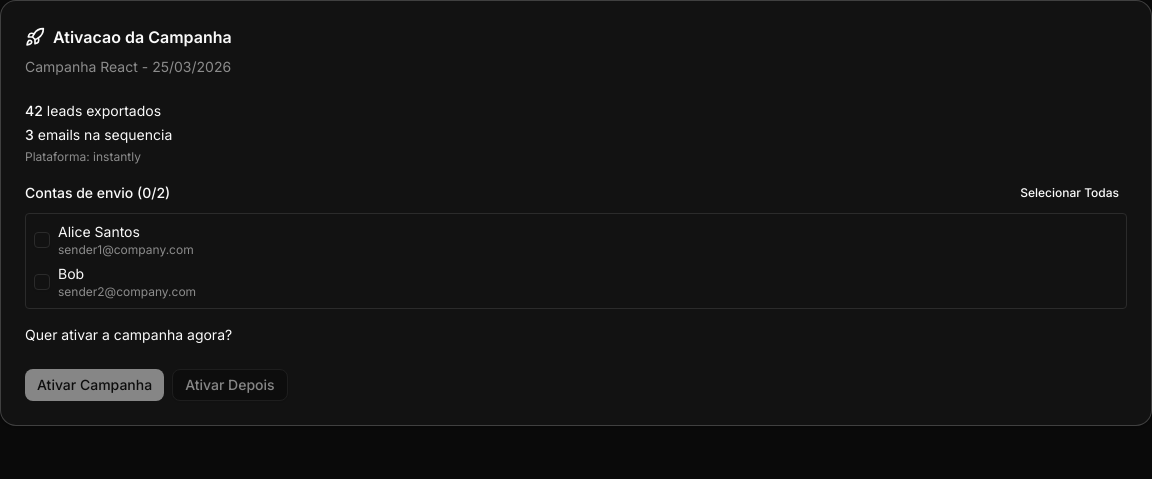
AgentActivationGate (AC: #4, #5, #6) › shows deferred feedback after defer
Click the checkbox named "Selecionar conta sender1@company.com" at (42, 240), box [34, 232, 50, 248]
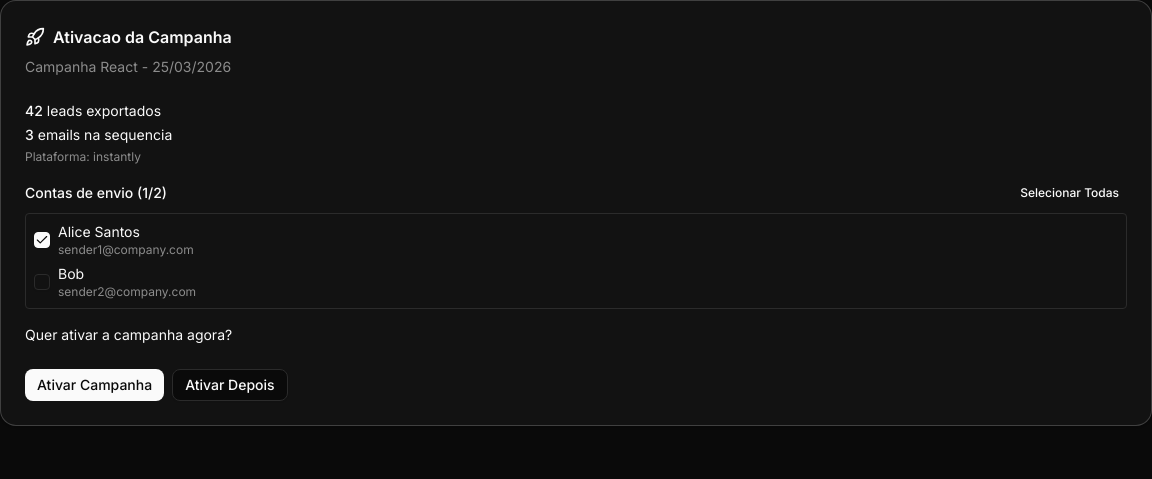
Click the button with test id "activation-defer-btn" at (230, 385), box [172, 369, 288, 401]
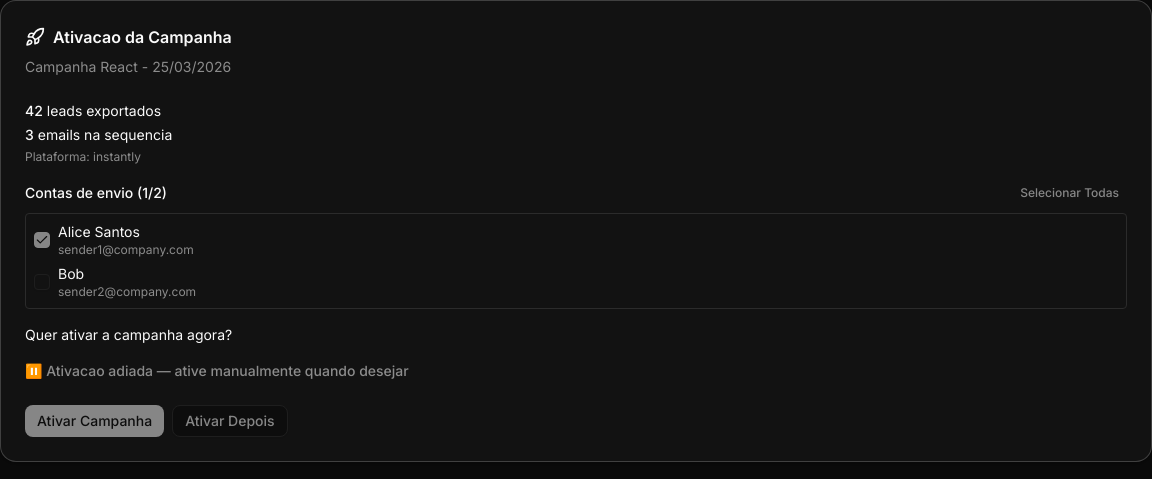
Check: the text "⏸️ Ativacao adiada — ative manualmente quando desejar" is shown, box [25, 362, 409, 379]
